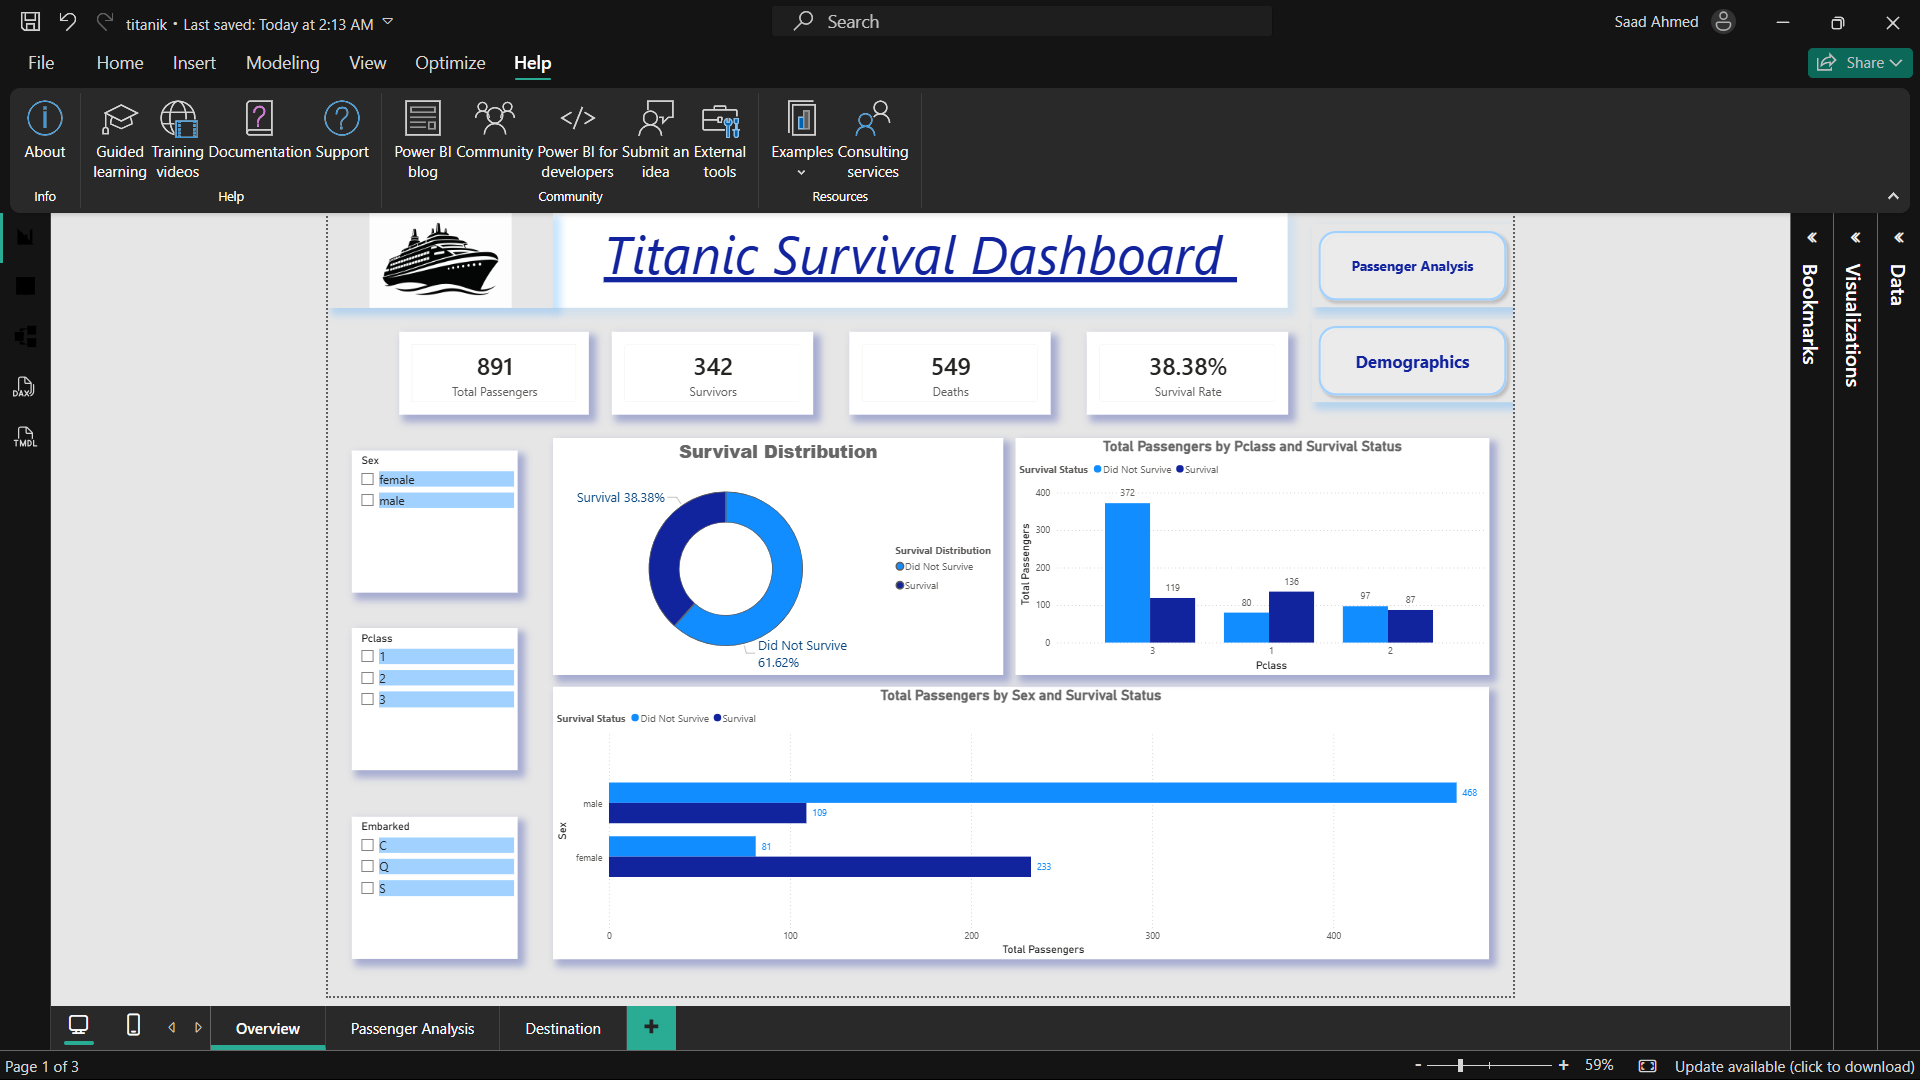

What the dashboard file says about the page in this screenshot:
{"tool":"powerbi","page":{"name":"Overview","canvas":[1600,1058],"ordinal":0},"visuals":[{"type":"textbox","box":[304,0,992,128],"z":0},{"type":"cardVisual","fields":{"Data":["train.Total Passengers"]},"box":[96,160,256,112],"z":1000},{"type":"cardVisual","fields":{"Data":["train.Survivors","train.Survivors"]},"box":[384,160,272,112],"z":4000},{"type":"cardVisual","fields":{"Data":["train.Deaths"]},"box":[704,160,272,112],"z":5000},{"type":"cardVisual","fields":{"Data":["train.Survival Rate"]},"box":[1024,160,272,112],"z":6000},{"type":"donutChart","title":"Survival Distribution","fields":{"Category":["train.Survival Status"],"Y":["train.Total Passengers"]},"box":[304,304,608,320],"z":7000},{"type":"clusteredBarChart","fields":{"Category":["train.Sex"],"Y":["train.Total Passengers"],"Series":["train.Survival Status"]},"box":[304,640,1264,368],"z":8000},{"type":"clusteredColumnChart","fields":{"Category":["train.Pclass"],"Y":["train.Total Passengers"],"Series":["train.Survival Status"]},"box":[928,304,640,320],"z":9000},{"type":"slicer","fields":{"Values":["train.Sex"]},"box":[32,320,224,192],"z":10000},{"type":"slicer","fields":{"Values":["train.Pclass"]},"box":[32,560,224,192],"z":11000},{"type":"slicer","fields":{"Values":["train.Embarked"]},"box":[32,816,224,192],"z":12000},{"type":"actionButton","box":[1328,16,272,112],"z":13000},{"type":"image","box":[0,0,304,128],"z":14000},{"type":"actionButton","box":[1328,144,272,112],"z":15000}]}

Visuals, with their boxes on the page's 1600x1058 design canvas (x1, y1, x2, y2). These are canvas units, not pixel positions in the 1920x1080 screenshot, which may show the page scaled, cropped or inside an application window:
textbox: 304:0:1296:128
cardVisual - train.Total Passengers: 96:160:352:272
cardVisual - train.Survivors x train.Survivors: 384:160:656:272
cardVisual - train.Deaths: 704:160:976:272
cardVisual - train.Survival Rate: 1024:160:1296:272
"Survival Distribution" donutChart: 304:304:912:624
clusteredBarChart - train.Sex x train.Total Passengers: 304:640:1568:1008
clusteredColumnChart - train.Pclass x train.Total Passengers: 928:304:1568:624
slicer - train.Sex: 32:320:256:512
slicer - train.Pclass: 32:560:256:752
slicer - train.Embarked: 32:816:256:1008
actionButton: 1328:16:1600:128
image: 0:0:304:128
actionButton: 1328:144:1600:256
